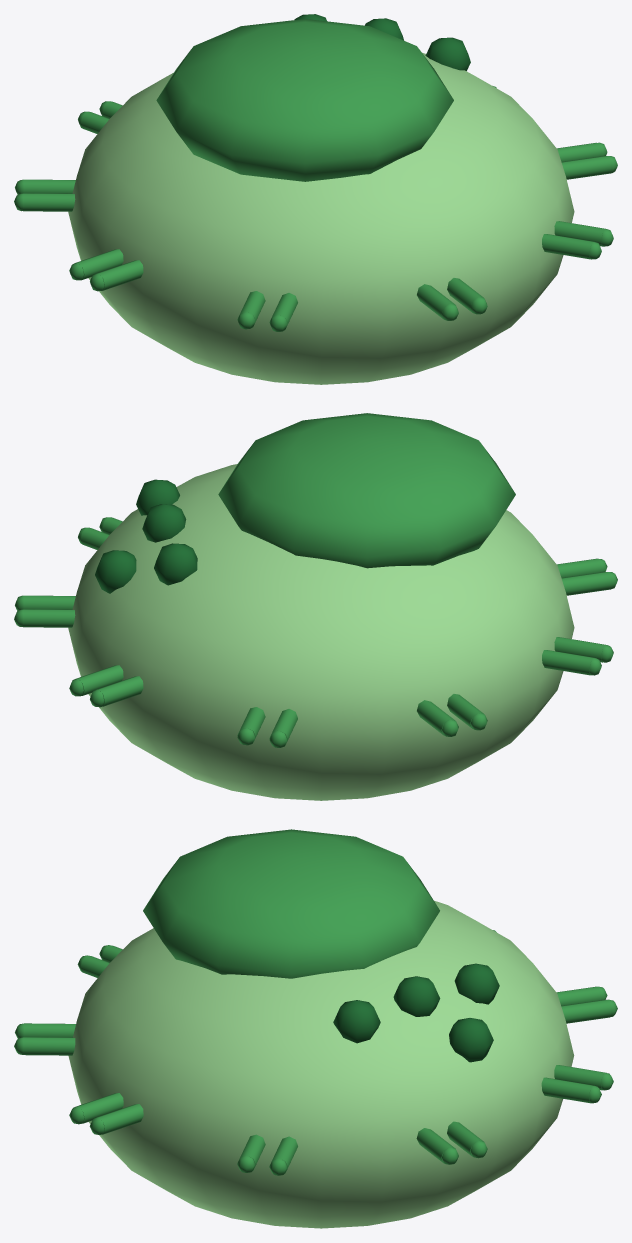
Rendered from tcell.glb.
The picture shows the model from 3 angles, top to bottom: view 1: azimuth 30°, elevation 25°; view 2: azimuth 150°, elevation 25°; view 3: azimuth 270°, elevation 25°; orthographic projection.
Parts seen in each view (by area): view 1: IW_L2_x_tcell; view 2: IW_L2_x_tcell; view 3: IW_L2_x_tcell.
Boxes of the visible parts, x1=… form: IW_L2_x_tcell: x1=14, y1=14, x2=617, y2=384; IW_L2_x_tcell: x1=14, y1=413, x2=617, y2=800; IW_L2_x_tcell: x1=14, y1=829, x2=617, y2=1228.
Size of the model in its own units: 2.05 by 1.19 by 2.03.
